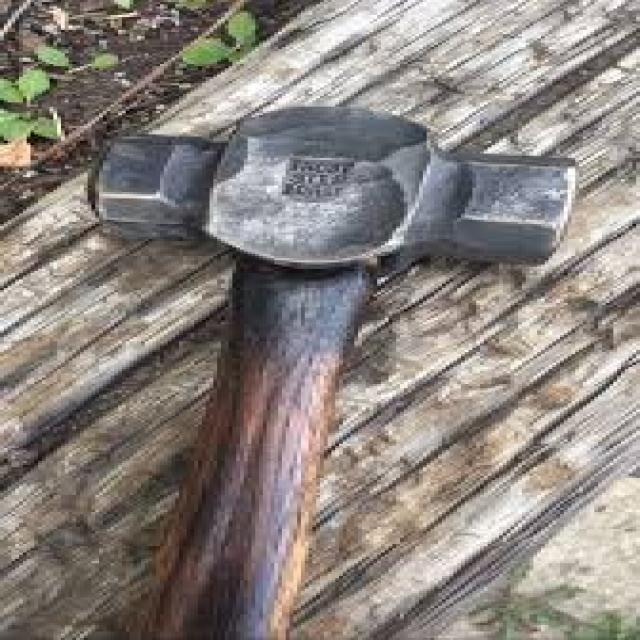hammer: (72, 98, 590, 640)
